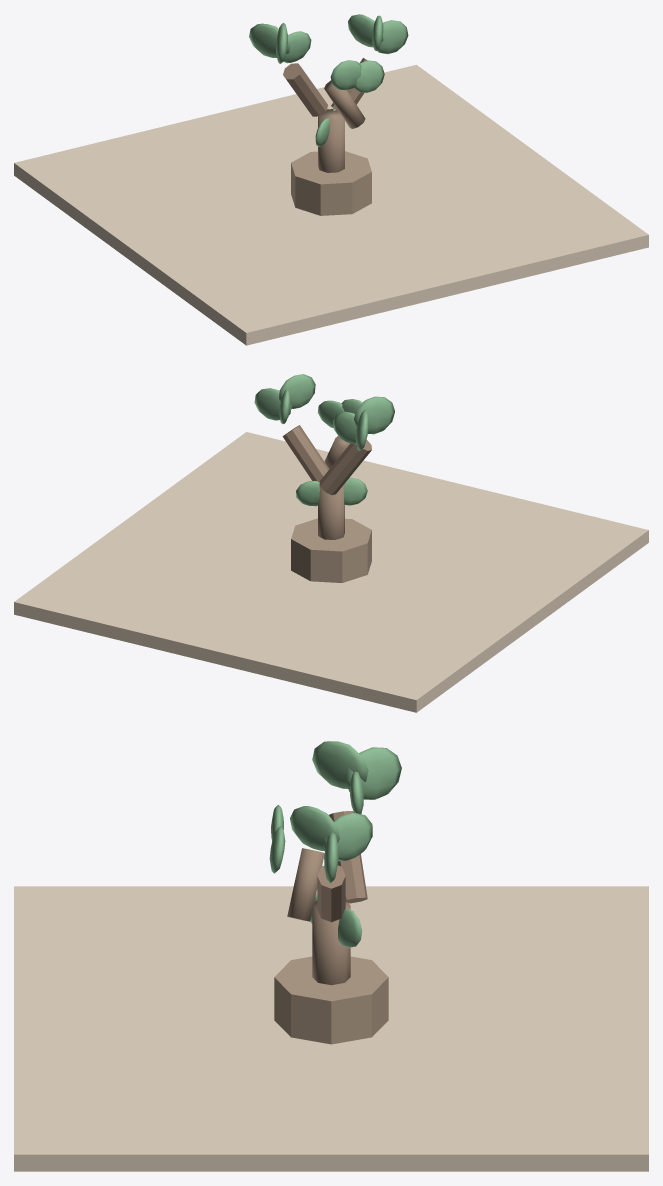
3 renders of one model, top to bottom at view 1: azimuth 30°, elevation 25°; view 2: azimuth 150°, elevation 25°; view 3: azimuth 270°, elevation 25°, orthographic. The views are drawn at different scales.
Parts seen in each view (by area): view 1: Table, JadePlant, Pot; view 2: Table, JadePlant, Pot; view 3: Table, JadePlant, Pot.
Part boxes in pixels (x1,y1,x2,y2): Table: (14, 64, 648, 345); JadePlant: (249, 14, 408, 172); Pot: (291, 151, 371, 215); Table: (14, 432, 648, 712); JadePlant: (254, 374, 394, 539); Pot: (291, 518, 371, 582); Table: (14, 886, 648, 1171); JadePlant: (269, 741, 401, 985); Pot: (274, 956, 388, 1044).
Size of the model in its own units: 2 by 0.9251 by 2.
